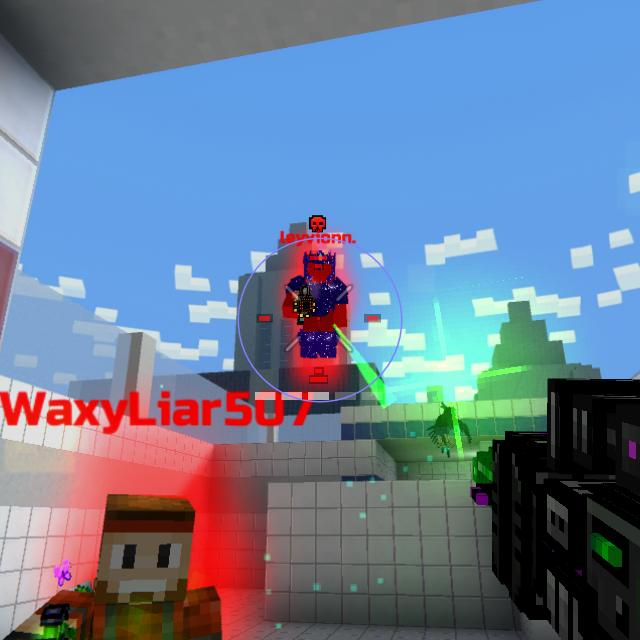Enemy: (1, 494, 222, 640), (282, 250, 348, 358)
